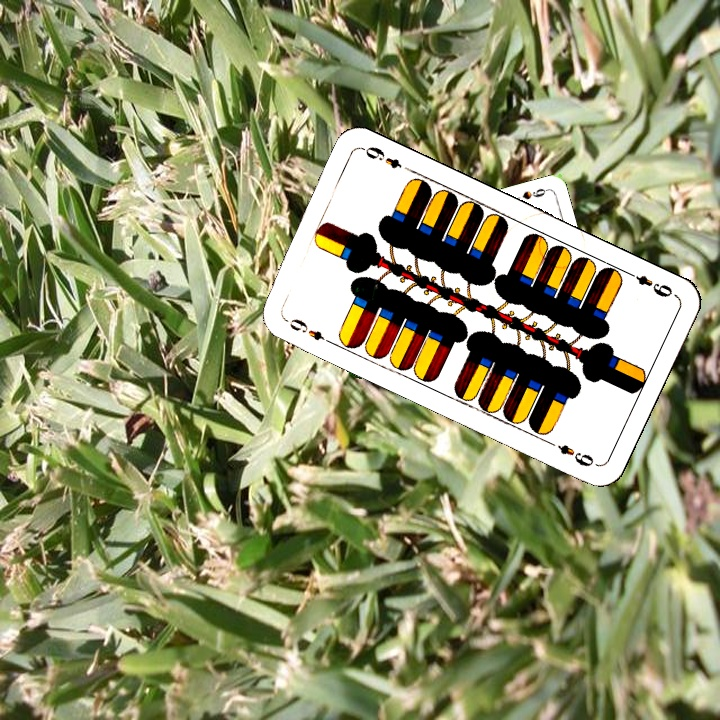E9: (622, 267, 678, 300), (280, 314, 335, 347)
S9: (518, 184, 551, 202)
